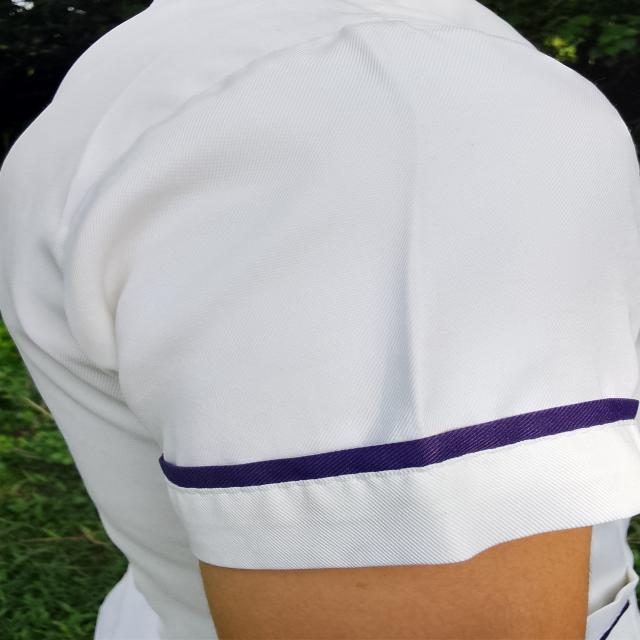education_female_uniform: (12, 11, 640, 610)
